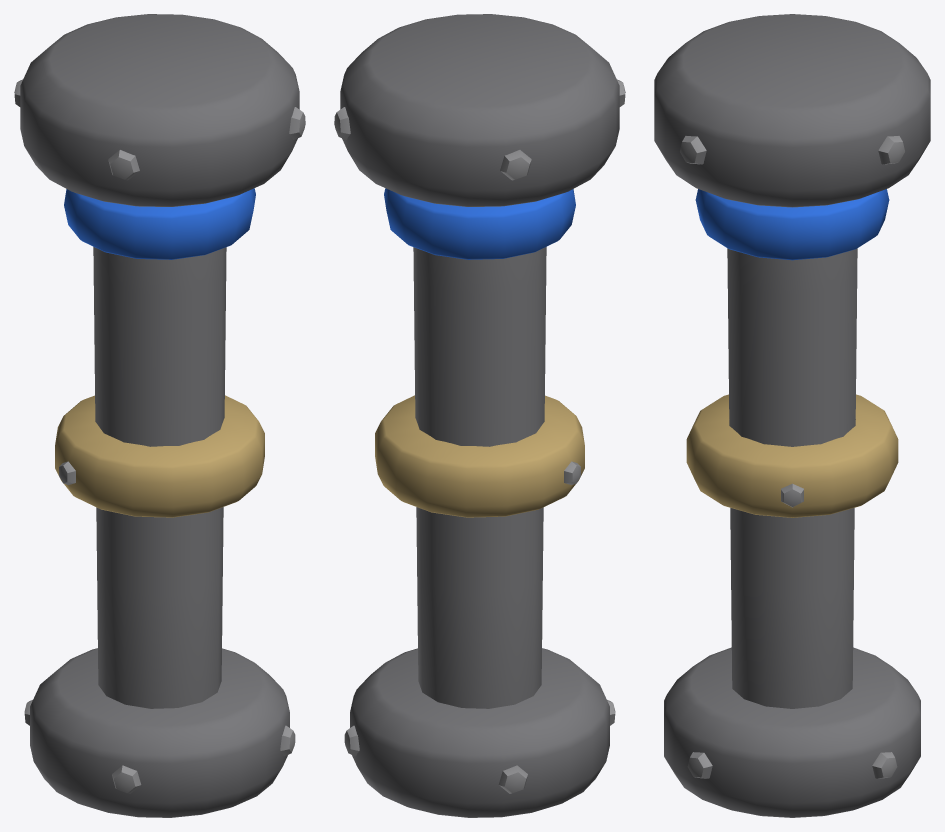
Rendered from Kit_Limb_Thin_L.glb.
3 views of the same model, side by side, from view 1: azimuth 30°, elevation 25°; view 2: azimuth 150°, elevation 25°; view 3: azimuth 270°, elevation 25° (orthographic).
Visible parts, largest first — view 1: Kit_Limb_Thin_L; view 2: Kit_Limb_Thin_L; view 3: Kit_Limb_Thin_L.
Boxes of the visible parts, bbox=[...] form: Kit_Limb_Thin_L: bbox=[14, 14, 305, 817]; Kit_Limb_Thin_L: bbox=[334, 14, 625, 817]; Kit_Limb_Thin_L: bbox=[654, 14, 930, 817].
Size of the model in its own units: 0.1273 by 0.3568 by 0.126.
